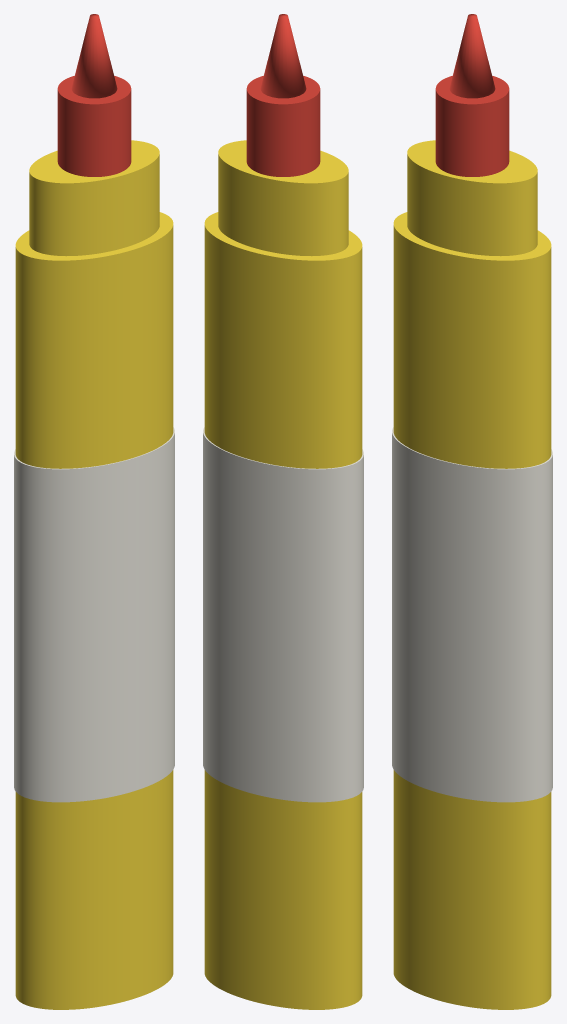
File: mustard.glb
The picture shows the model from 3 angles, left to right: view 1: azimuth 30°, elevation 25°; view 2: azimuth 150°, elevation 25°; view 3: azimuth 330°, elevation 25°; orthographic projection.
Parts seen in each view (by area): view 1: Cylinder.004, Cylinder.007, Cylinder.005, Cylinder.006, Cone.001; view 2: Cylinder.004, Cylinder.007, Cylinder.005, Cylinder.006, Cone.001; view 3: Cylinder.004, Cylinder.007, Cylinder.005, Cylinder.006, Cone.001.
Part boxes in pixels (left/top/right/bottom): Cylinder.004: left=15, top=212, right=173, bottom=1009; Cylinder.007: left=14, top=427, right=174, bottom=802; Cylinder.005: left=29, top=140, right=159, bottom=256; Cylinder.006: left=57, top=76, right=131, bottom=176; Cone.001: left=71, top=14, right=117, bottom=98; Cylinder.004: left=204, top=212, right=362, bottom=1009; Cylinder.007: left=203, top=427, right=363, bottom=802; Cylinder.005: left=218, top=140, right=348, bottom=256; Cylinder.006: left=246, top=76, right=320, bottom=176; Cone.001: left=260, top=14, right=306, bottom=98; Cylinder.004: left=393, top=212, right=551, bottom=1009; Cylinder.007: left=392, top=427, right=552, bottom=802; Cylinder.005: left=407, top=140, right=537, bottom=256; Cylinder.006: left=435, top=76, right=509, bottom=176; Cone.001: left=449, top=14, right=495, bottom=98.
Size of the model in its own units: 1.53 by 9.3 by 0.918.
